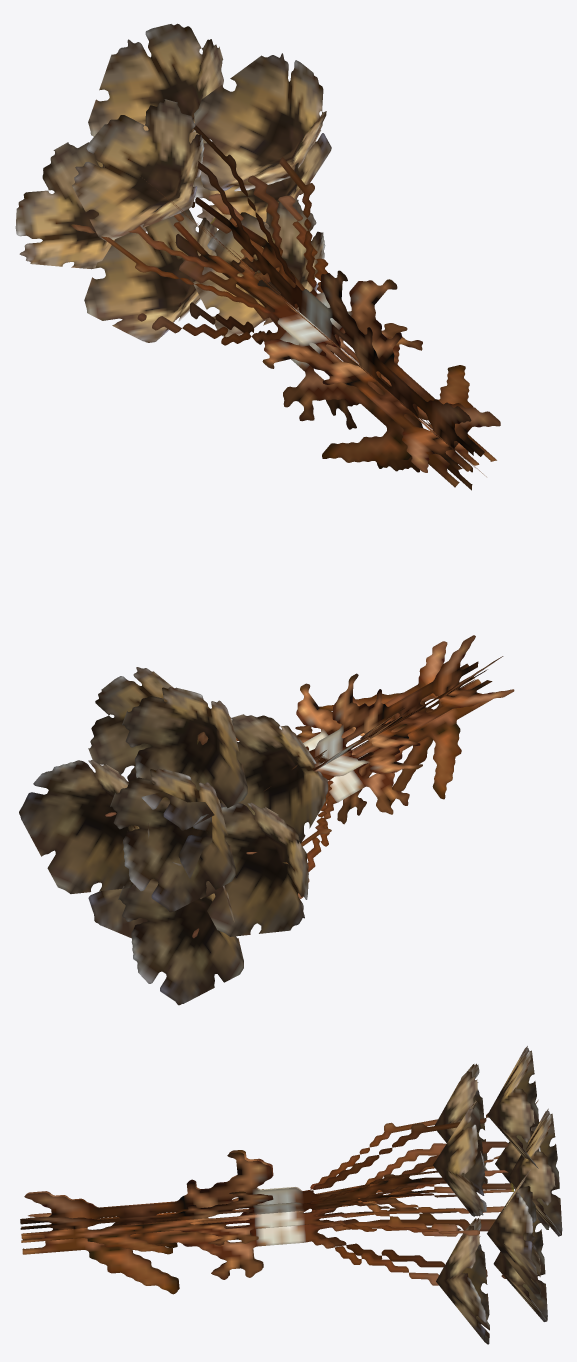
File: flowersbunchdead02.obj
3 views of the same model, one above another, from view 1: azimuth 30°, elevation 25°; view 2: azimuth 150°, elevation 25°; view 3: azimuth 270°, elevation 25° (orthographic). The views are drawn at different scales.
Parts seen in each view (by area): view 1: FLOWERSBUNCHDEAD020; view 2: FLOWERSBUNCHDEAD020; view 3: FLOWERSBUNCHDEAD020.
Boxes of the visible parts, x1,y1,x2,y2 form: FLOWERSBUNCHDEAD020: (15, 23, 500, 490); FLOWERSBUNCHDEAD020: (19, 635, 514, 1005); FLOWERSBUNCHDEAD020: (20, 1046, 562, 1344).
Bounding box in the file's own units: 0.4518 × 0.4512 × 0.83.
